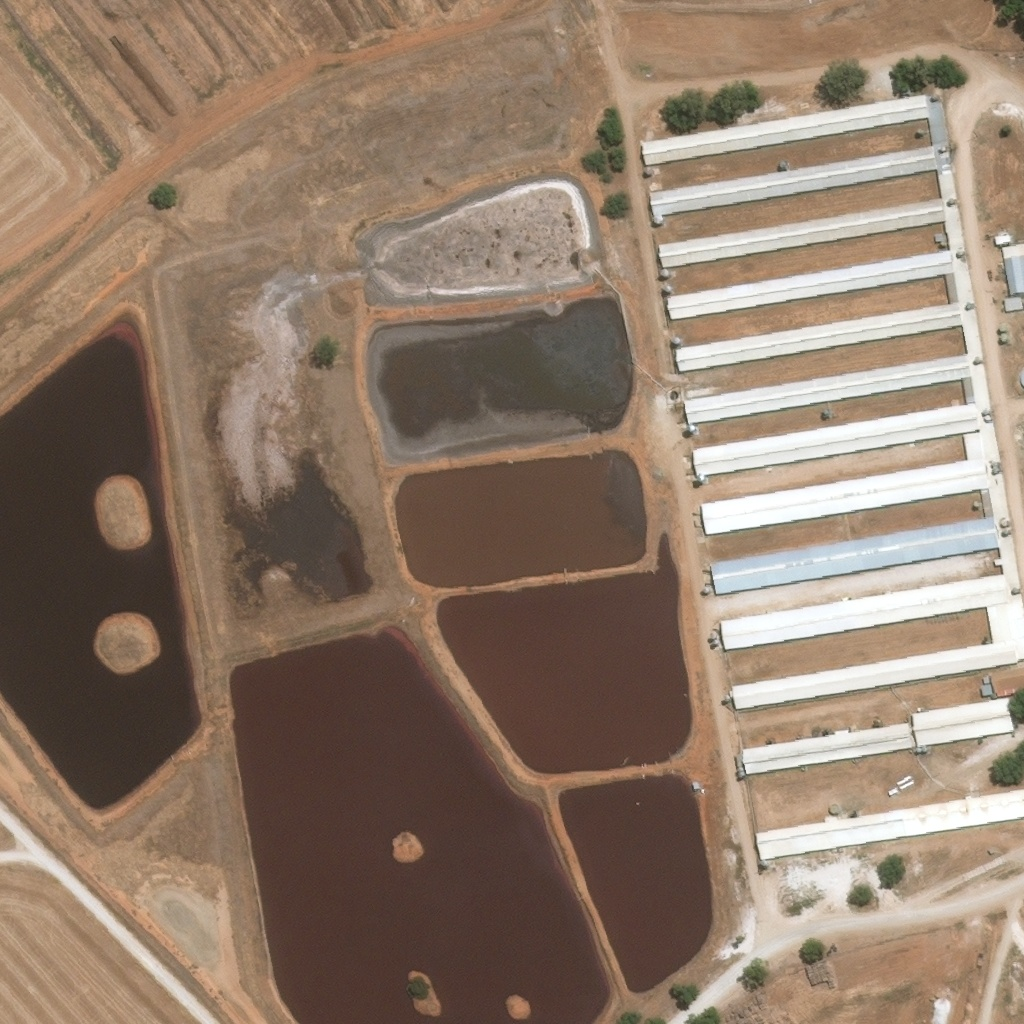0 no-damage: (709, 518, 1000, 600), (718, 576, 1010, 654), (700, 460, 990, 538), (690, 406, 979, 482), (730, 641, 1019, 714), (649, 147, 936, 219), (681, 358, 970, 428), (657, 203, 945, 273), (666, 252, 954, 322), (675, 305, 962, 375), (640, 98, 928, 167), (754, 793, 1023, 863), (743, 725, 914, 776), (937, 175, 976, 327), (979, 430, 1018, 577), (911, 699, 1017, 751), (983, 574, 1023, 666), (962, 324, 995, 433), (924, 95, 944, 147), (990, 670, 1023, 699), (1003, 259, 1023, 298), (962, 433, 983, 463), (933, 145, 951, 178), (979, 490, 994, 520), (945, 275, 959, 307), (1001, 245, 1023, 263), (961, 380, 974, 407), (1004, 299, 1023, 314), (994, 236, 1011, 247), (981, 687, 992, 698), (691, 784, 699, 793), (983, 681, 991, 688)
4 un-classified: (898, 859, 917, 893), (774, 26, 786, 39)
